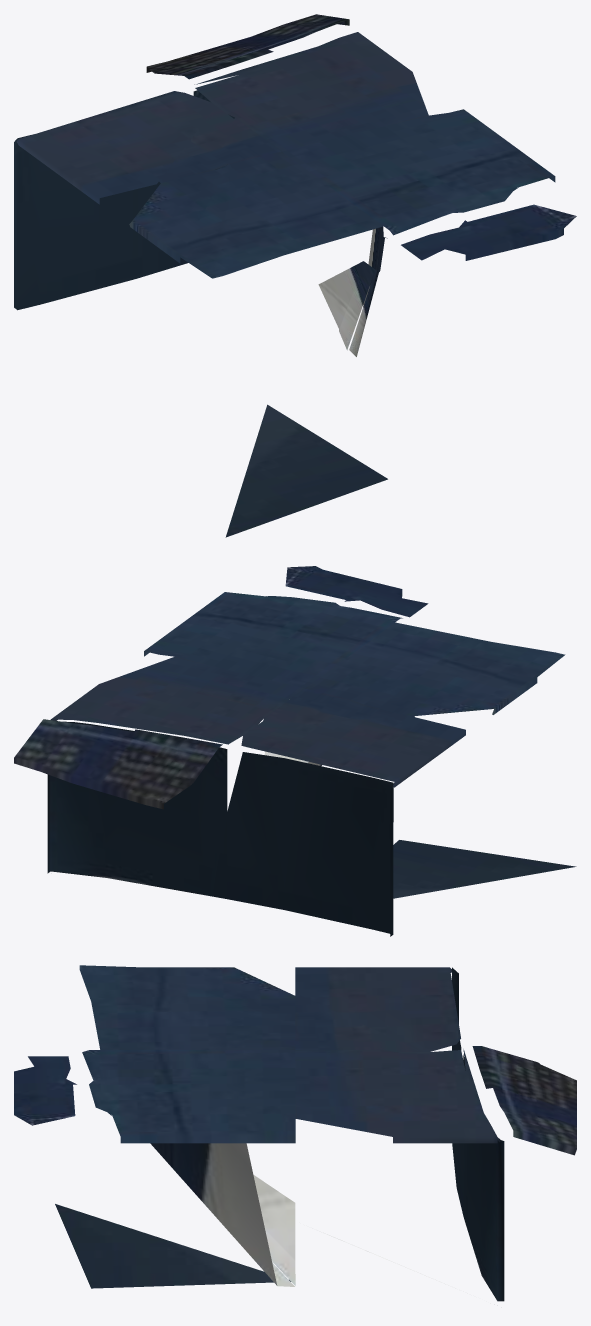
3 views of the same model, one above another, from view 1: azimuth 30°, elevation 25°; view 2: azimuth 150°, elevation 25°; view 3: azimuth 270°, elevation 25° (orthographic). The views are drawn at different scales.
Visible parts, largest first — view 1: 30436272704370427532_1; view 2: 30436272704370427532_1; view 3: 30436272704370427532_1.
Boxes of the visible parts, <box> form: 30436272704370427532_1: <box>14,14,576,537</box>; 30436272704370427532_1: <box>14,566,576,936</box>; 30436272704370427532_1: <box>14,965,576,1301</box>.
Size of the model in its own units: 27.32 by 18.19 by 38.26.
1 material, 1 textured.
